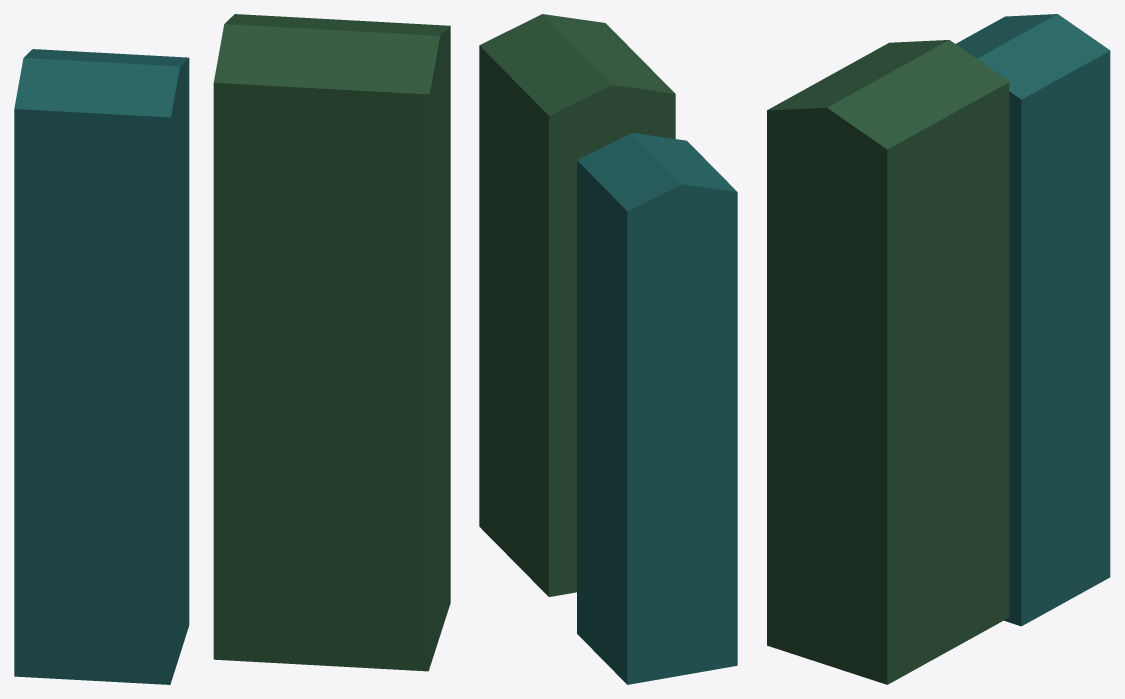
File: near-15-27351-14879.d5bb614b.glb
3 renders of one model, left to right at view 1: azimuth 30°, elevation 25°; view 2: azimuth 150°, elevation 25°; view 3: azimuth 270°, elevation 25°, orthographic. The views are drawn at different scales.
Bounding box in the file's own units: 11.06 × 17.86 × 9.52.
